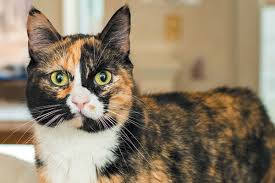Gato: (20, 4, 160, 148)
